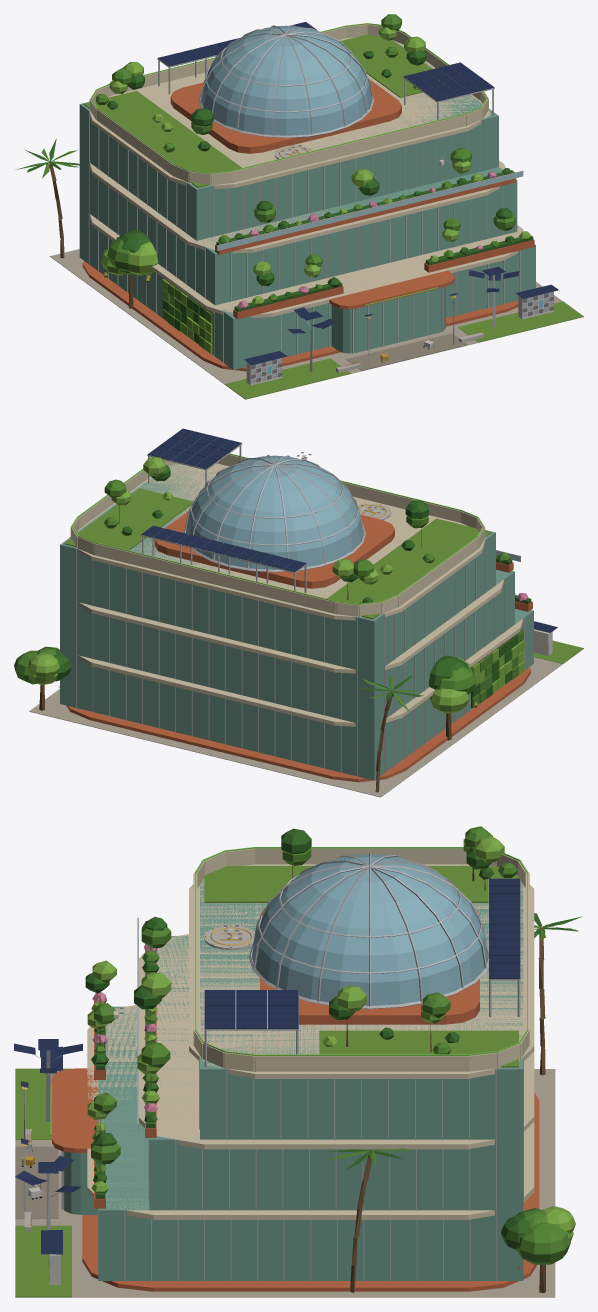
File: shop_5.glb
The picture shows the model from 3 angles, top to bottom: view 1: azimuth 30°, elevation 25°; view 2: azimuth 150°, elevation 25°; view 3: azimuth 270°, elevation 25°; orthographic projection. The views are drawn at different scales.
Parts seen in each view (by area): view 1: body, windows; view 2: body, windows; view 3: body, windows.
Boxes of the visible parts, left/top/right/bottom form: body: left=15, top=14, right=583, bottom=399; windows: left=90, top=23, right=543, bottom=374; body: left=14, top=428, right=583, bottom=797; windows: left=71, top=453, right=553, bottom=631; body: left=14, top=826, right=582, bottom=1297; windows: left=22, top=847, right=528, bottom=1264.
Size of the model in its own units: 36.6 by 20.78 by 33.68.
